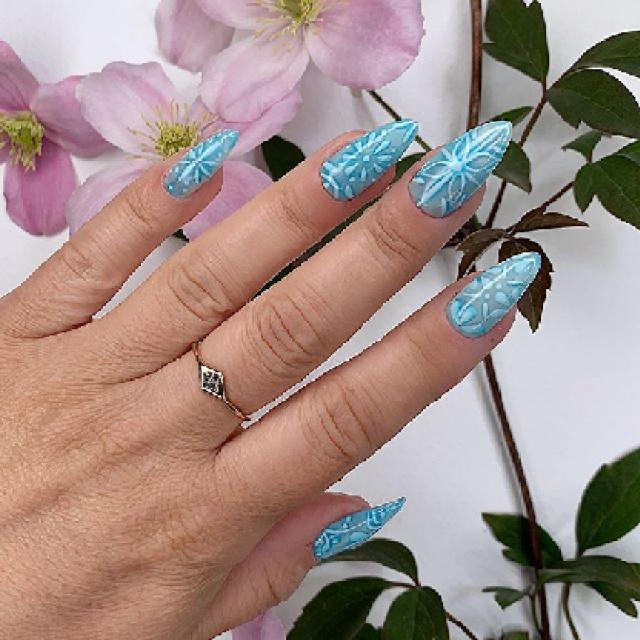Nail: (410, 121, 511, 217), (446, 252, 540, 338), (321, 120, 418, 201), (312, 501, 404, 559), (164, 130, 237, 198)
